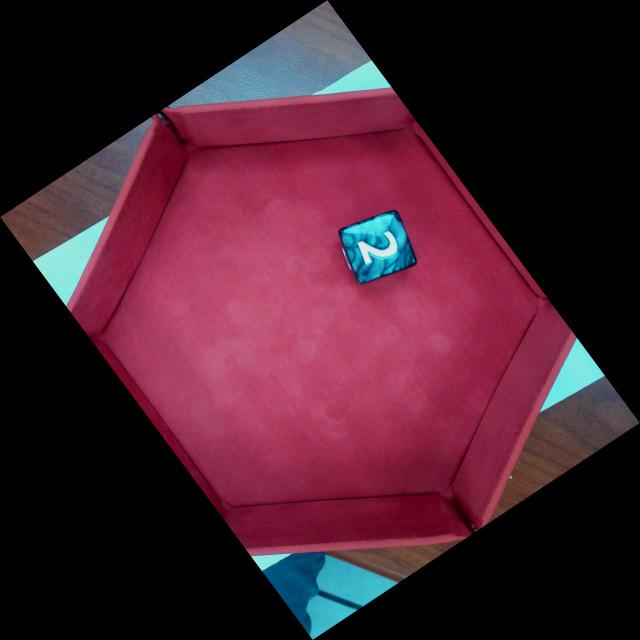dice: (336, 208, 419, 285)
